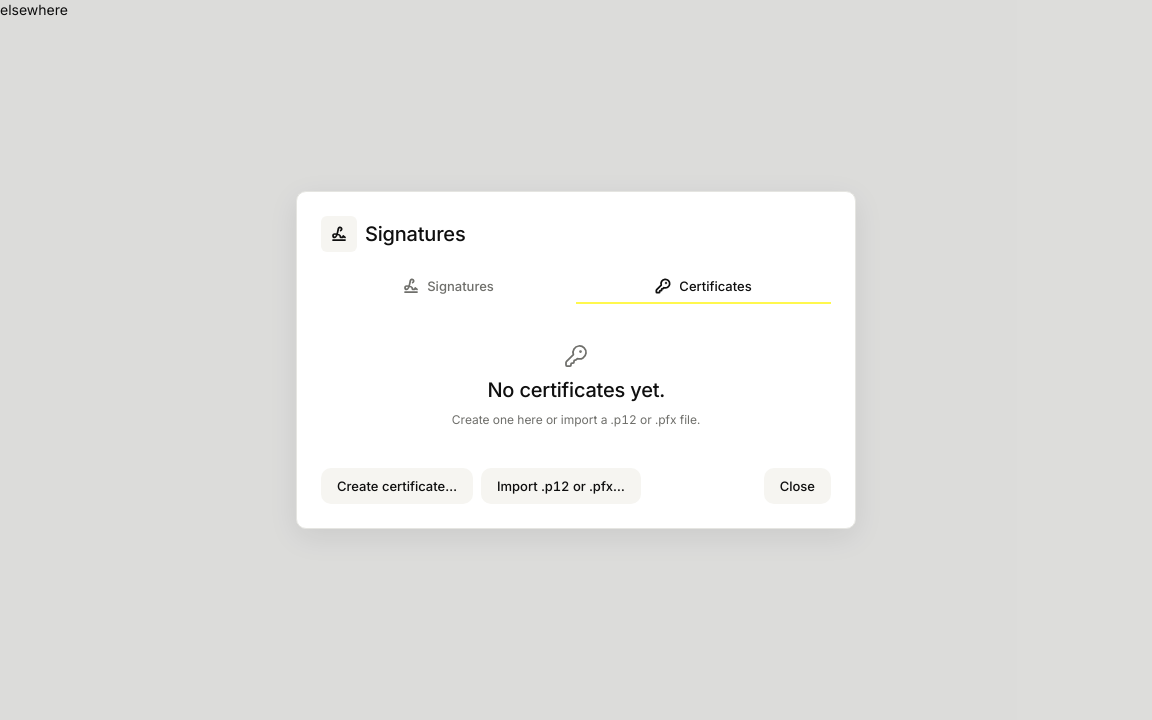
Scenario: certificate manager › imports with the right password and shows a wrong one under the field
This screenshot has width=1152, height=720.
Click the button "Import .p12 or .pfx…": (561, 486) [481,468,641,504]
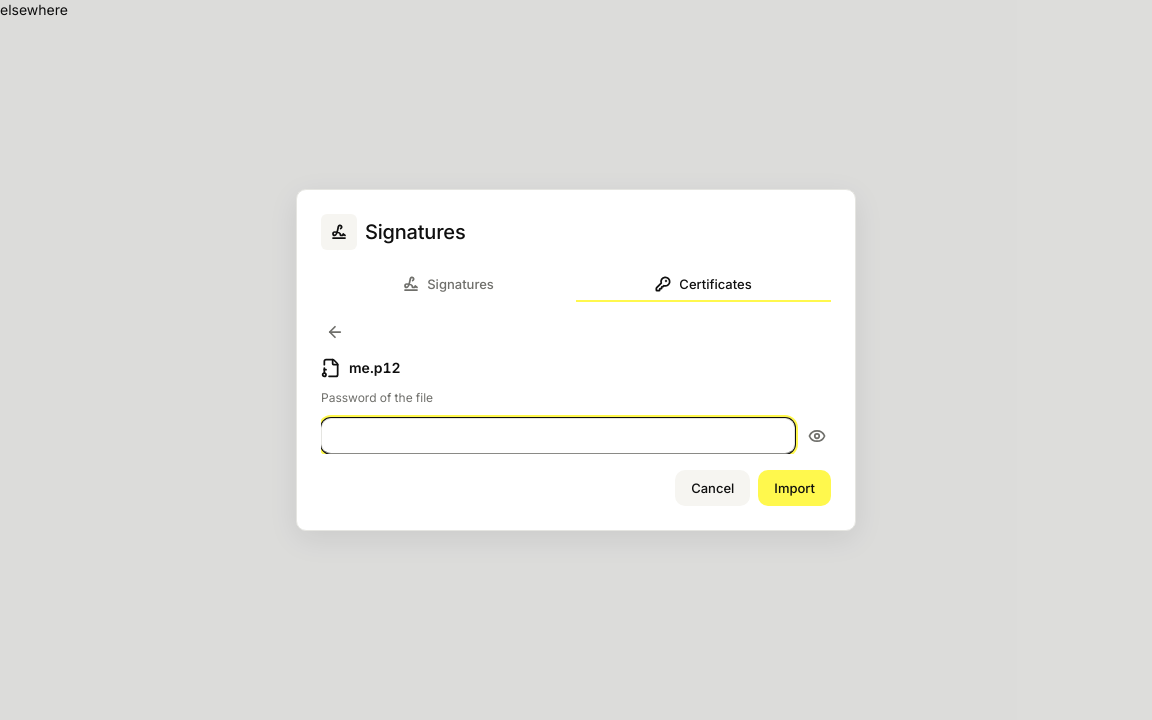
Expected: the text "me.p12" is shown, [349,358,400,378]
Click the button named "Show password": (817, 436) [803,422,831,450]
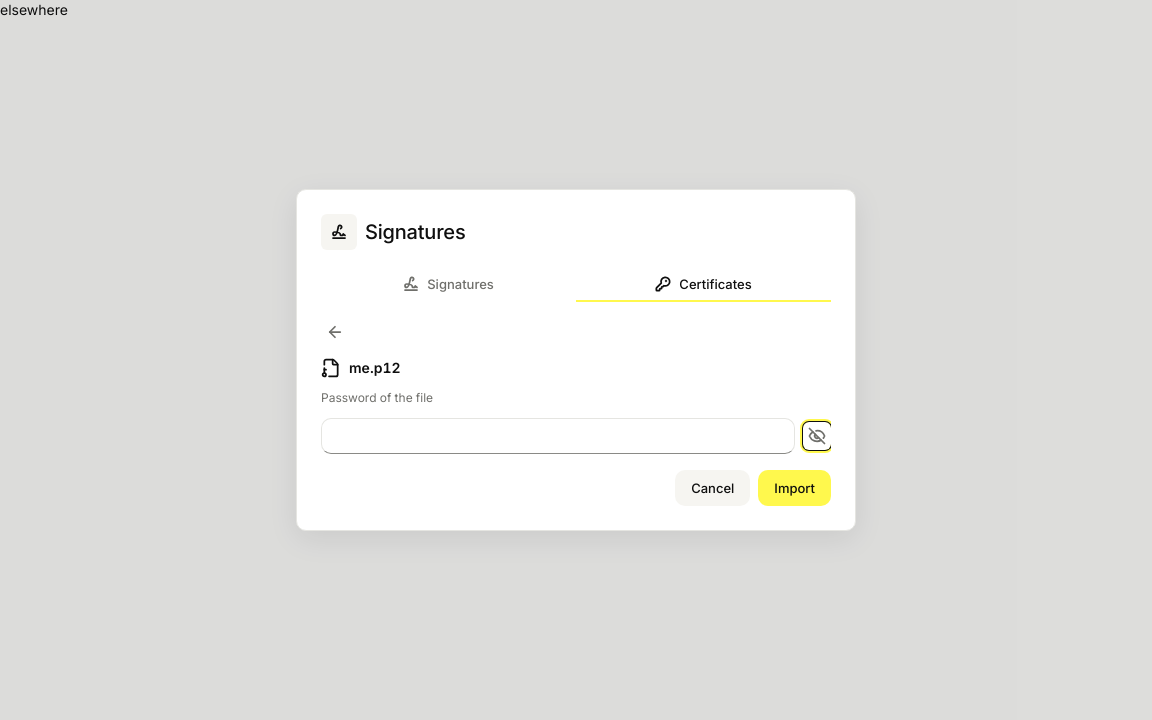
In the field labelled "Password of the file": (558, 436) [321,418,795,454], type "bad"
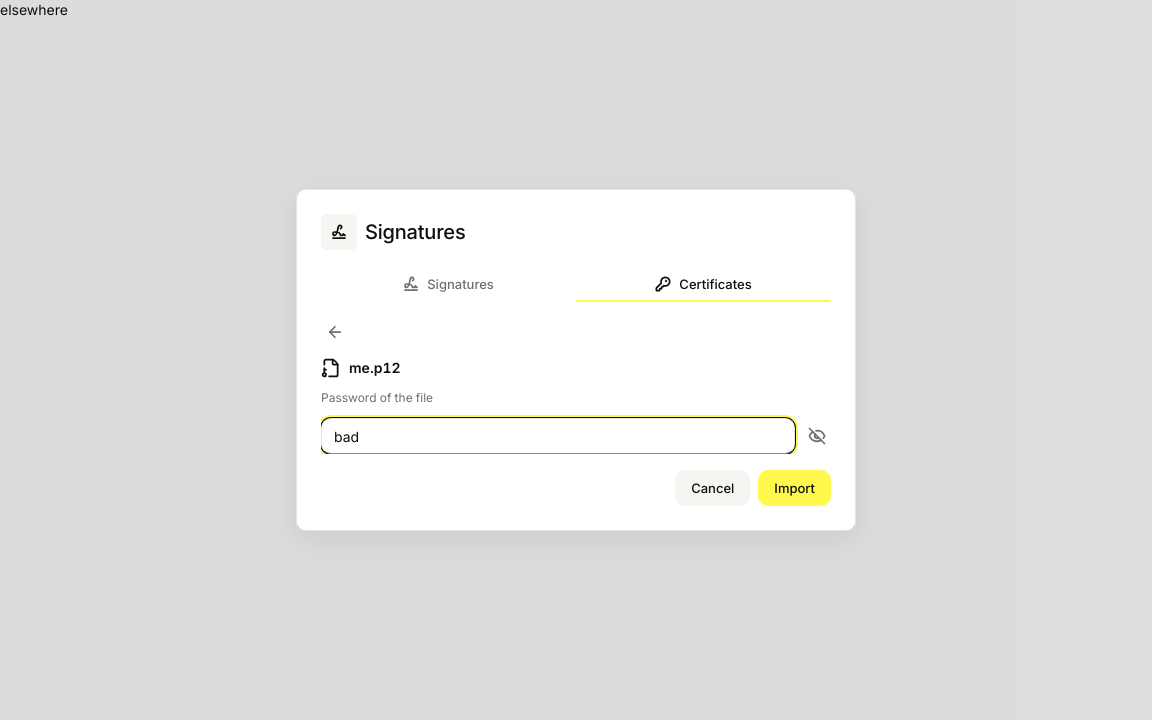
Click the button "Import": (795, 488) [758,470,831,506]
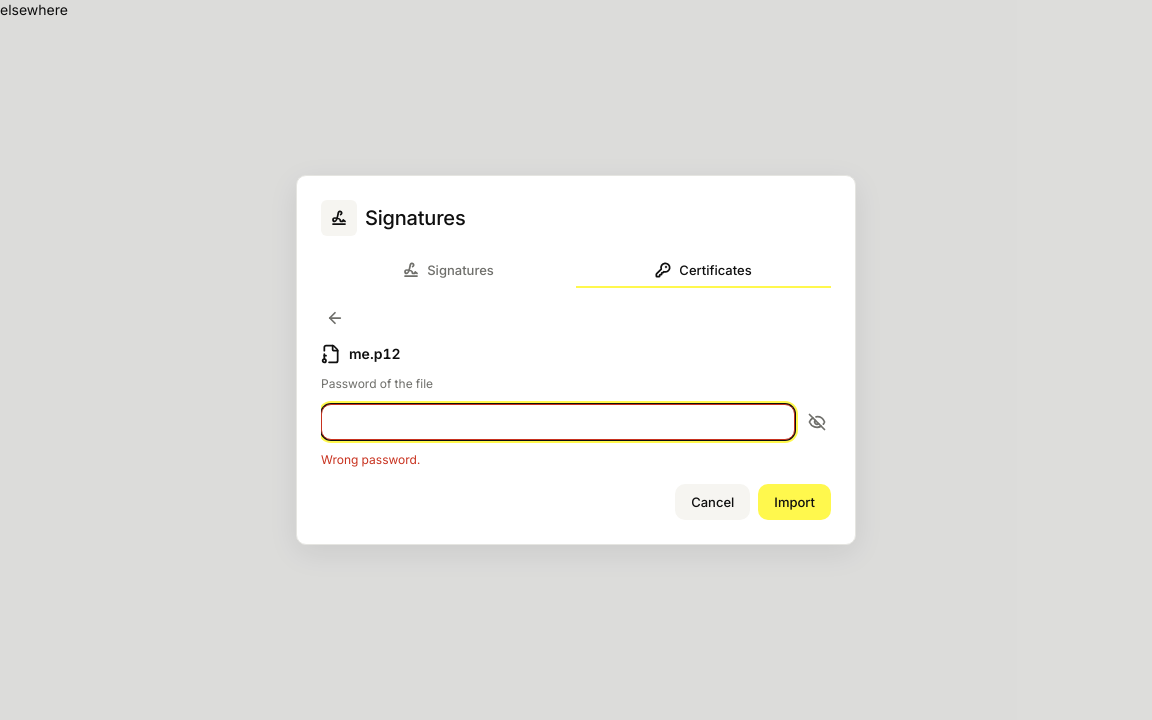
Expected: the message reads "Wrong password.", [321,452,420,467]
In the field labelled "Password of the file": (558, 422) [321,404,795,440], type "good"
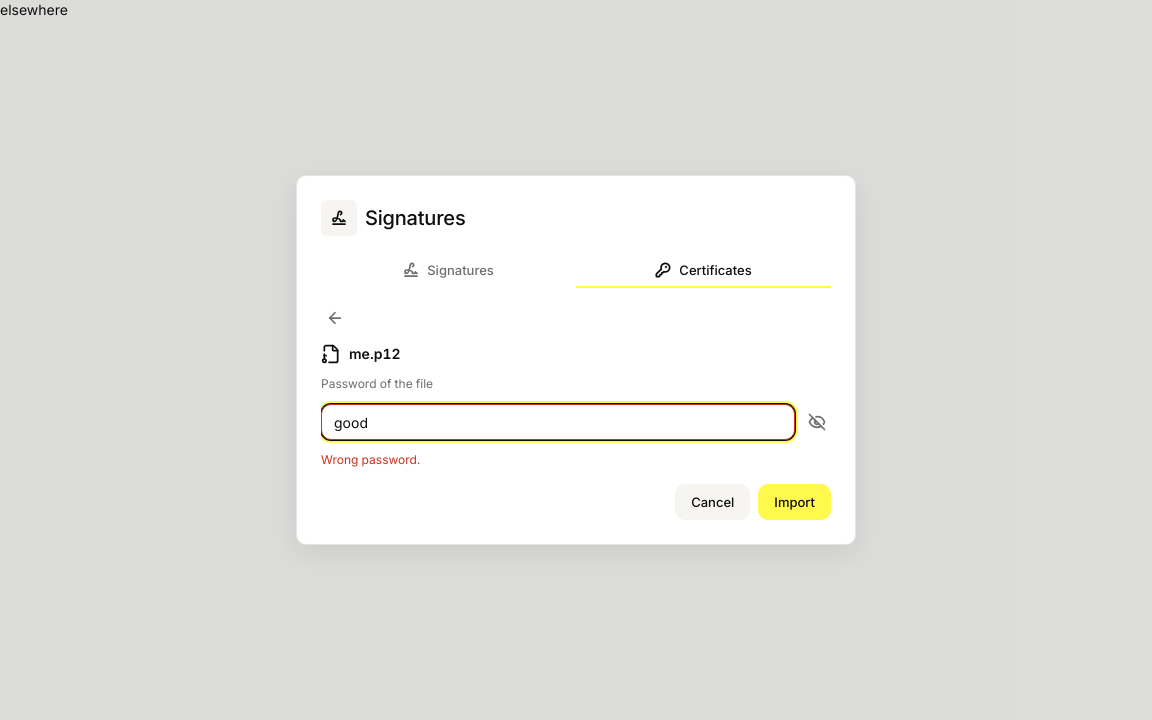
Click the button "Import": (795, 502) [758,484,831,520]
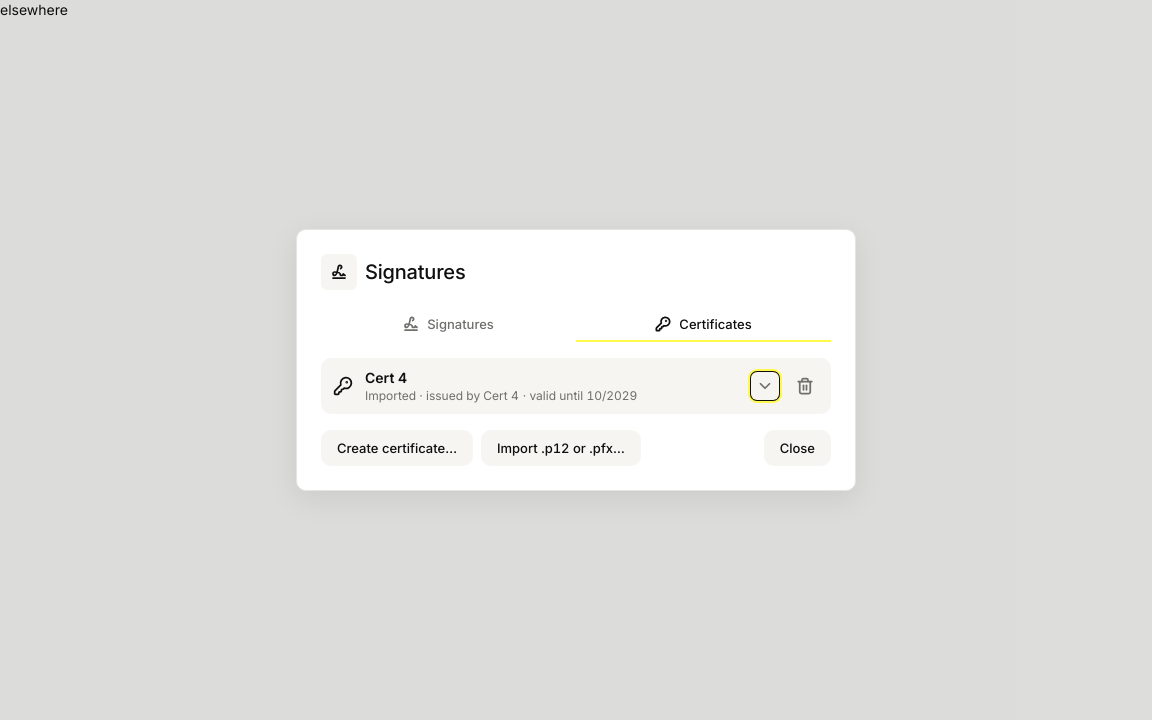
Expected: the list is shown, [321,358,831,414]
Expected: the text "Cert 4" is shown, [365,369,407,386]
